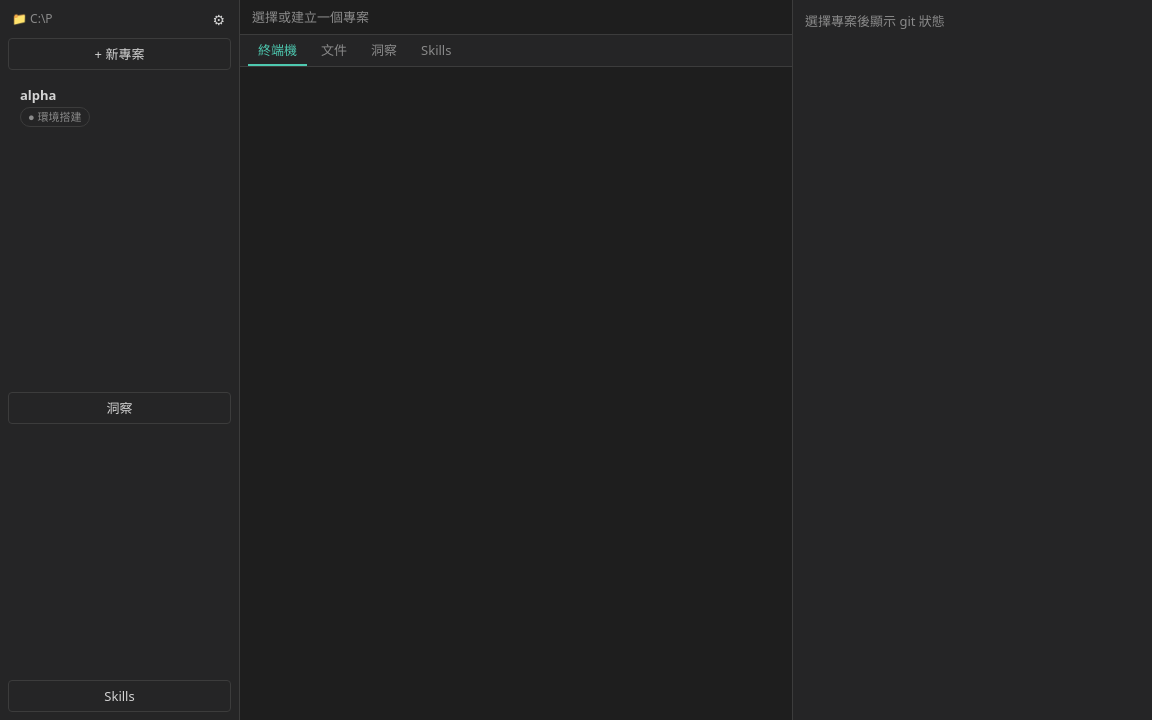
it: App › strips the electron remote-method prefix from error text
Click the button "+ 新專案": (120, 54) [8, 38, 231, 70]
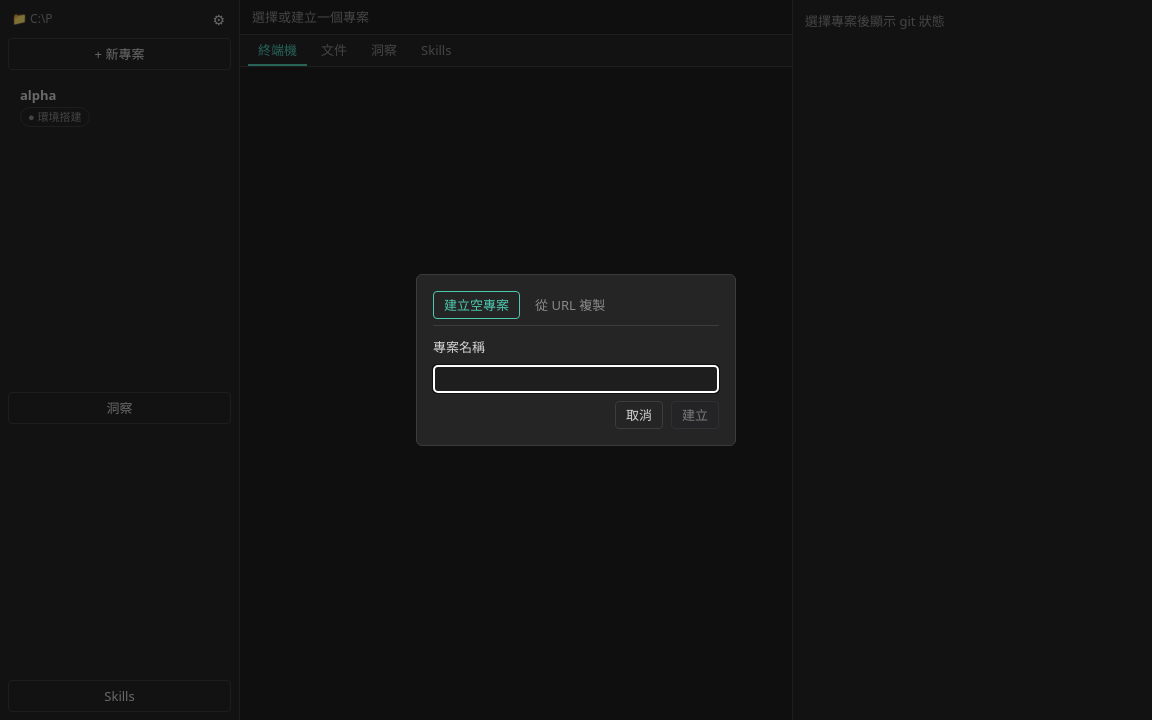
In the field labelled "專案名稱": (576, 379) [433, 364, 719, 393], type "gamma"
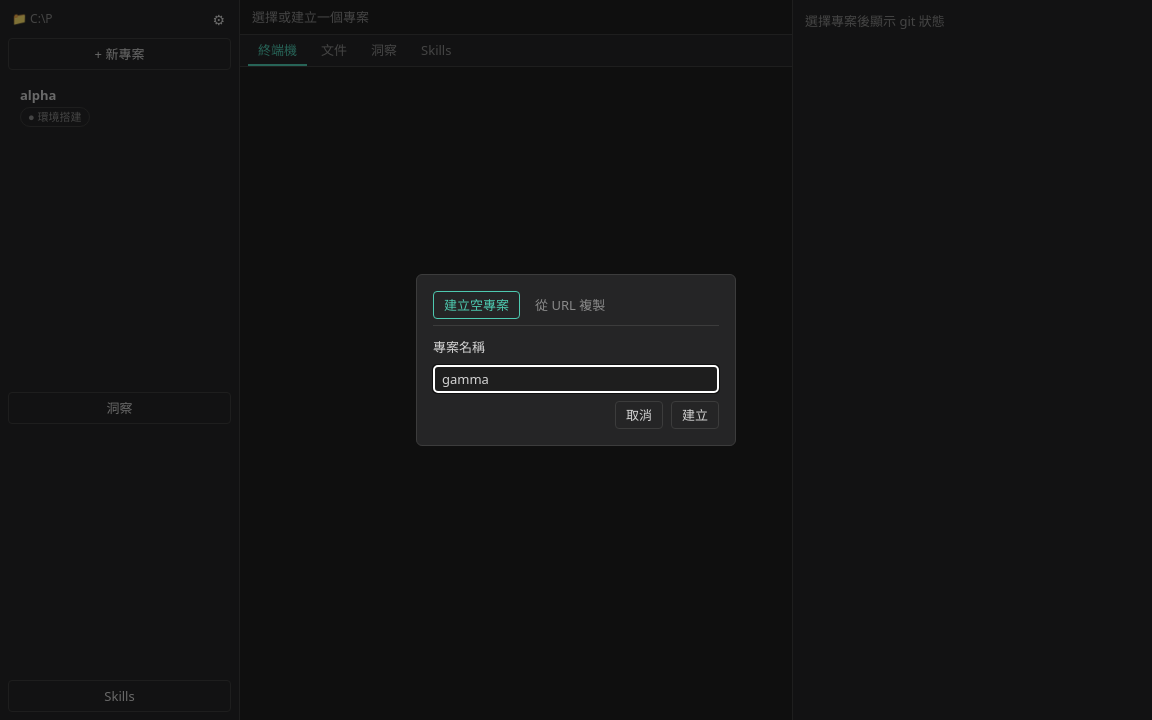
Click the button "建立": (695, 415) [671, 401, 719, 429]
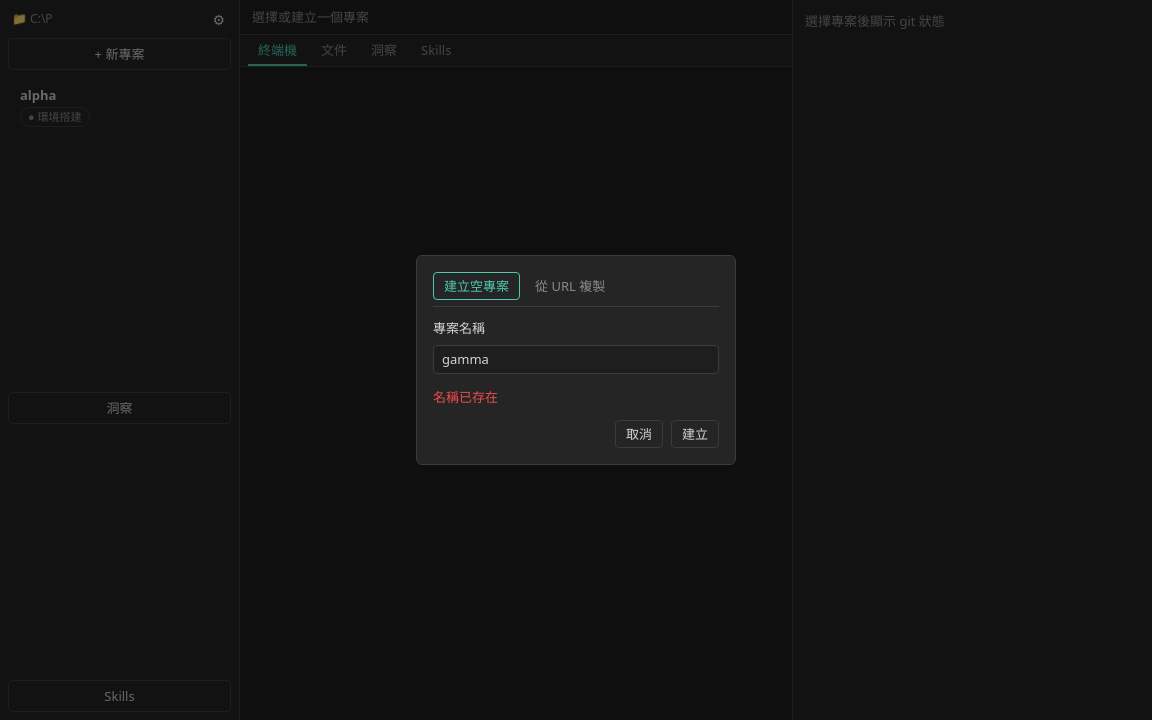
Result: the text "名稱已存在" is shown at [433, 388, 498, 406]
